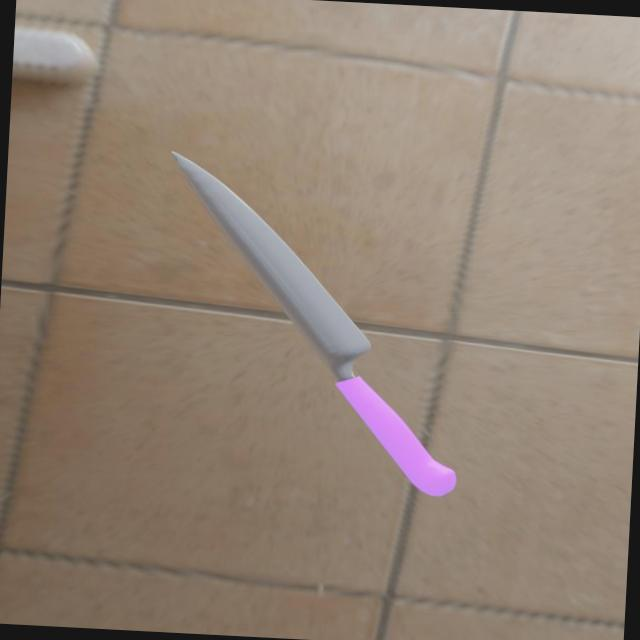knife: (330, 373, 461, 498)
